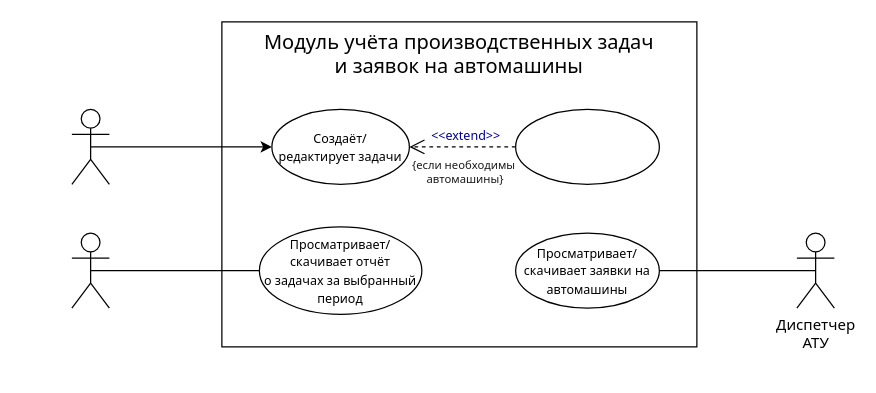
The diagram is 876 pixels wide and 393 high, and some of its shapes have lost their labels. Each missing label, with the centre of its shape:
"Ведущий инженер" belongs at point (90, 146).
"Заместитель начальника цеха" belongs at point (90, 270).
"Создаёт/редактирует заявки на автомашины" belongs at point (586, 146).
